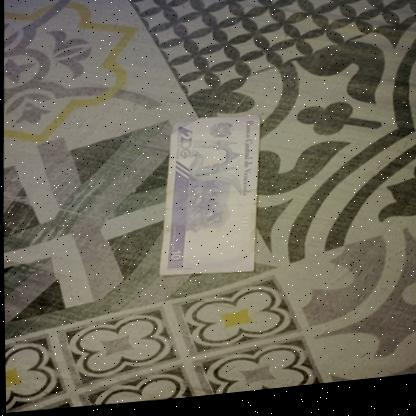ten-back-vef: (155, 117, 263, 286)
